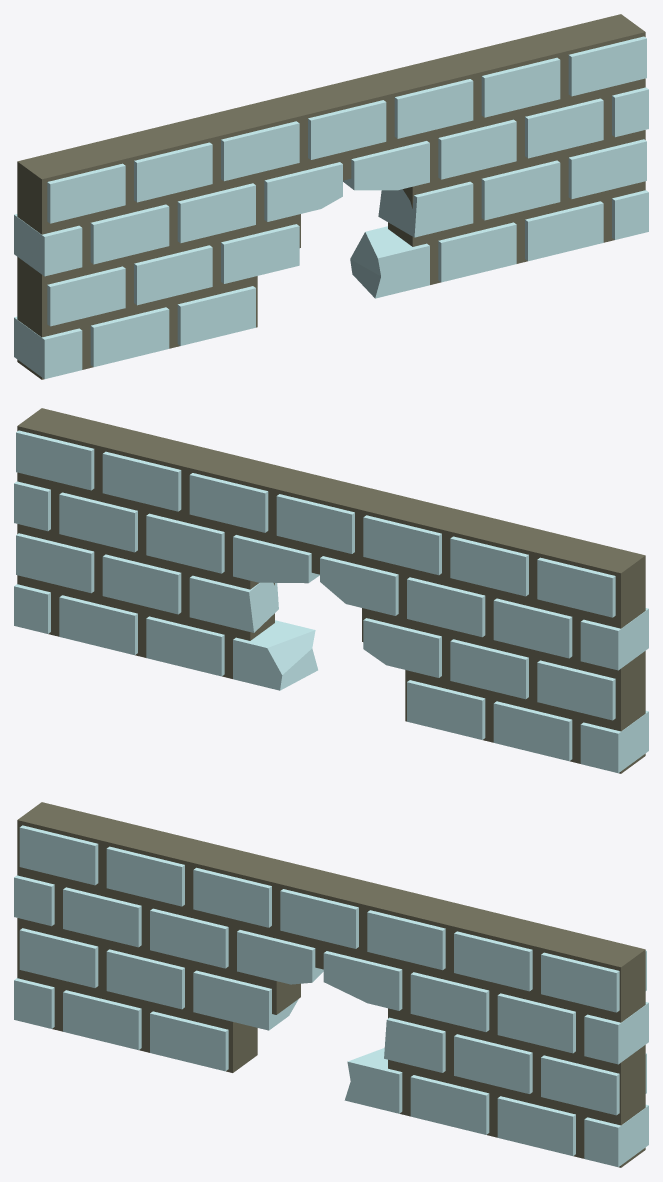
The model's file is broken_wall.fbx.
3 views of the same model, one above another, from view 1: azimuth 30°, elevation 25°; view 2: azimuth 150°, elevation 25°; view 3: azimuth 330°, elevation 25° (orthographic).
Visible parts, largest first — view 1: cement, destructible_brick 6, destructible_brick 5, Brick.016, Brick.013, Brick.028, Brick.001, Brick.027, Brick.002, Brick.009, Brick.023, Brick.005 (+17 smaller); view 2: cement, destructible_brick 6, destructible_brick 5, Brick.016, Brick.013, Brick.028, Brick.001, Brick.027, Brick.002, Brick.009, Brick.023, Brick.005 (+17 smaller); view 3: cement, destructible_brick 1, Brick.029, Brick.014, Brick.005, Brick.008, Brick.020, Brick.023, Brick.021, Brick.009, Brick.016, Brick.017 (+17 smaller).
Part boxes in pixels (x1,y1,x2,y2): cement: (17, 14, 645, 379); destructible_brick 6: (350, 226, 429, 298); destructible_brick 5: (378, 181, 473, 237); Brick.016: (90, 204, 169, 264); Brick.013: (481, 160, 560, 220); Brick.028: (481, 57, 560, 117); Brick.001: (90, 307, 169, 367); Brick.027: (394, 79, 473, 138); Brick.002: (177, 286, 255, 345); Brick.009: (134, 245, 212, 305); Brick.023: (47, 163, 125, 223); Brick.005: (438, 222, 516, 282); cement: (17, 408, 645, 773); destructible_brick 6: (233, 620, 317, 690); destructible_brick 5: (189, 575, 278, 632); Brick.016: (493, 598, 572, 658); Brick.013: (102, 554, 181, 614); Brick.028: (102, 451, 181, 511); Brick.001: (493, 701, 572, 761); Brick.027: (189, 473, 268, 532); Brick.002: (407, 680, 485, 739); Brick.009: (450, 639, 528, 699); Brick.023: (537, 557, 615, 617); Brick.005: (146, 616, 224, 676); cement: (17, 802, 645, 1167); destructible_brick 1: (193, 970, 298, 1030); Brick.029: (541, 950, 646, 1012); Brick.014: (541, 1053, 646, 1115); Brick.005: (410, 1075, 489, 1134); Brick.008: (19, 928, 98, 987); Brick.020: (410, 972, 489, 1031); Brick.023: (19, 825, 98, 885); Brick.021: (497, 993, 575, 1053); Brick.009: (106, 949, 184, 1009); Brick.016: (63, 887, 141, 947); Brick.017: (150, 908, 228, 968).
Size of the model in its own units: 480 by 152 by 42.
